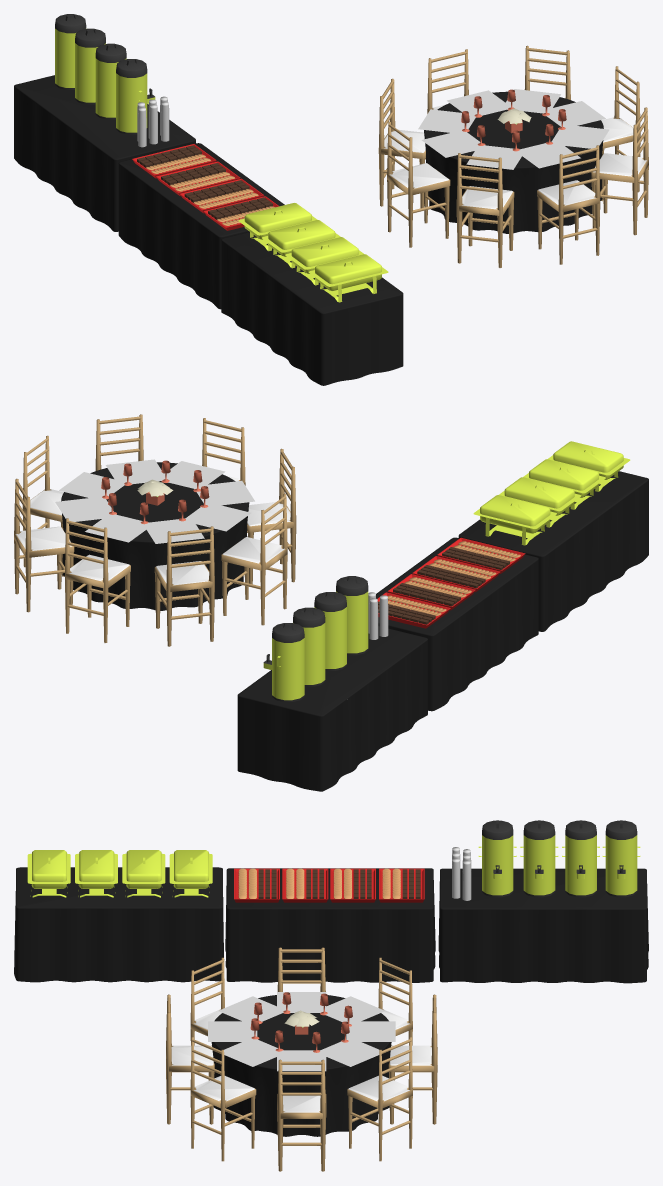
Rendered from banquet.fbx.
3 renders of one model, top to bottom at view 1: azimuth 30°, elevation 25°; view 2: azimuth 150°, elevation 25°; view 3: azimuth 270°, elevation 25°, orthographic. The views are drawn at different scales.
Parts seen in each view (by area): view 1: Table.001, Cube.1039_Cube.1484, Cube.1033_Cube.1478, Cube.1032_Cube.1477, Table.000, Cube.1038_Cube.1483, Table.003, Cube.919_Cube.001, Cube, Cube.919_Cube.1269, Cylinder.008, Table.002 (+3 smaller); view 2: Table.001, Cube.1033_Cube.1478, Cube.1039_Cube.1484, Cube.1032_Cube.1477, Table.000, Cube.1038_Cube.1483, Table.003, Cube.919_Cube.001, Cube, Cube.918_Cube.000, Cube.919_Cube.1269, Cylinder.008 (+3 smaller); view 3: Cube.1033_Cube.1478, Cube.1039_Cube.1484, Cube.1032_Cube.1477, Table.001, Table.000, Cube.919_Cube.001, Cube.1038_Cube.1483, Table.003, Cube.918_Cube.000, Cube.919_Cube.1269, Cylinder.008, Cube (+3 smaller).
Part boxes in pixels (x1=…): Table.001: x1=378, y1=45, x2=648, y2=267; Cube.1039_Cube.1484: x1=221, y1=232, x2=403, y2=385; Cube.1033_Cube.1478: x1=14, y1=75, x2=195, y2=231; Cube.1032_Cube.1477: x1=118, y1=143, x2=284, y2=309; Table.000: x1=424, y1=91, x2=603, y2=233; Cube.1038_Cube.1483: x1=238, y1=203, x2=388, y2=302; Table.003: x1=418, y1=89, x2=609, y2=169; Cube.919_Cube.001: x1=55, y1=28, x2=155, y2=132; Cube: x1=137, y1=145, x2=272, y2=219; Cube.919_Cube.1269: x1=55, y1=14, x2=147, y2=77; Cylinder.008: x1=146, y1=154, x2=274, y2=225; Table.002: x1=433, y1=95, x2=593, y2=162; Table.001: x1=14, y1=414, x2=296, y2=646; Cube.1033_Cube.1478: x1=237, y1=626, x2=427, y2=791; Cube.1039_Cube.1484: x1=458, y1=471, x2=648, y2=631; Cube.1032_Cube.1477: x1=376, y1=537, x2=538, y2=711; Table.000: x1=61, y1=462, x2=249, y2=610; Cube.1038_Cube.1483: x1=473, y1=441, x2=630, y2=545; Table.003: x1=55, y1=459, x2=254, y2=543; Cube.919_Cube.001: x1=263, y1=591, x2=368, y2=700; Cube: x1=378, y1=547, x2=509, y2=624; Cube.918_Cube.000: x1=377, y1=537, x2=525, y2=628; Cube.919_Cube.1269: x1=272, y1=576, x2=368, y2=642; Cylinder.008: x1=379, y1=541, x2=520, y2=615; Cube.1033_Cube.1478: x1=438, y1=868, x2=648, y2=983; Cube.1039_Cube.1484: x1=14, y1=867, x2=224, y2=982; Cube.1032_Cube.1477: x1=225, y1=868, x2=435, y2=982; Table.001: x1=166, y1=947, x2=437, y2=1171; Table.000: x1=211, y1=995, x2=391, y2=1136; Cube.919_Cube.001: x1=478, y1=835, x2=640, y2=895; Cube.1038_Cube.1483: x1=27, y1=850, x2=212, y2=897; Table.003: x1=208, y1=992, x2=395, y2=1071; Cube.918_Cube.000: x1=234, y1=868, x2=424, y2=902; Cube.919_Cube.1269: x1=482, y1=820, x2=637, y2=839; Cylinder.008: x1=238, y1=868, x2=400, y2=898; Cube: x1=258, y1=869, x2=420, y2=898.
Size of the model in its own units: 1076 by 343 by 1298.
